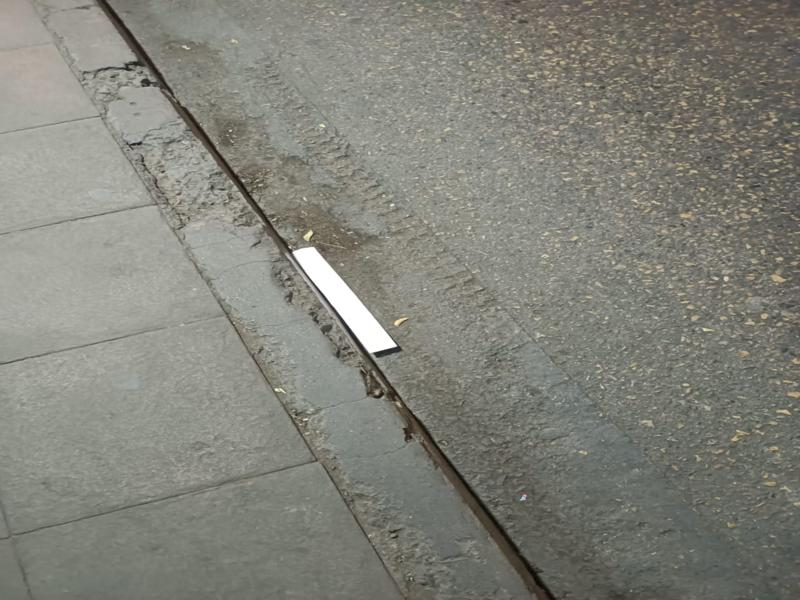papel: (292, 248, 400, 360)
